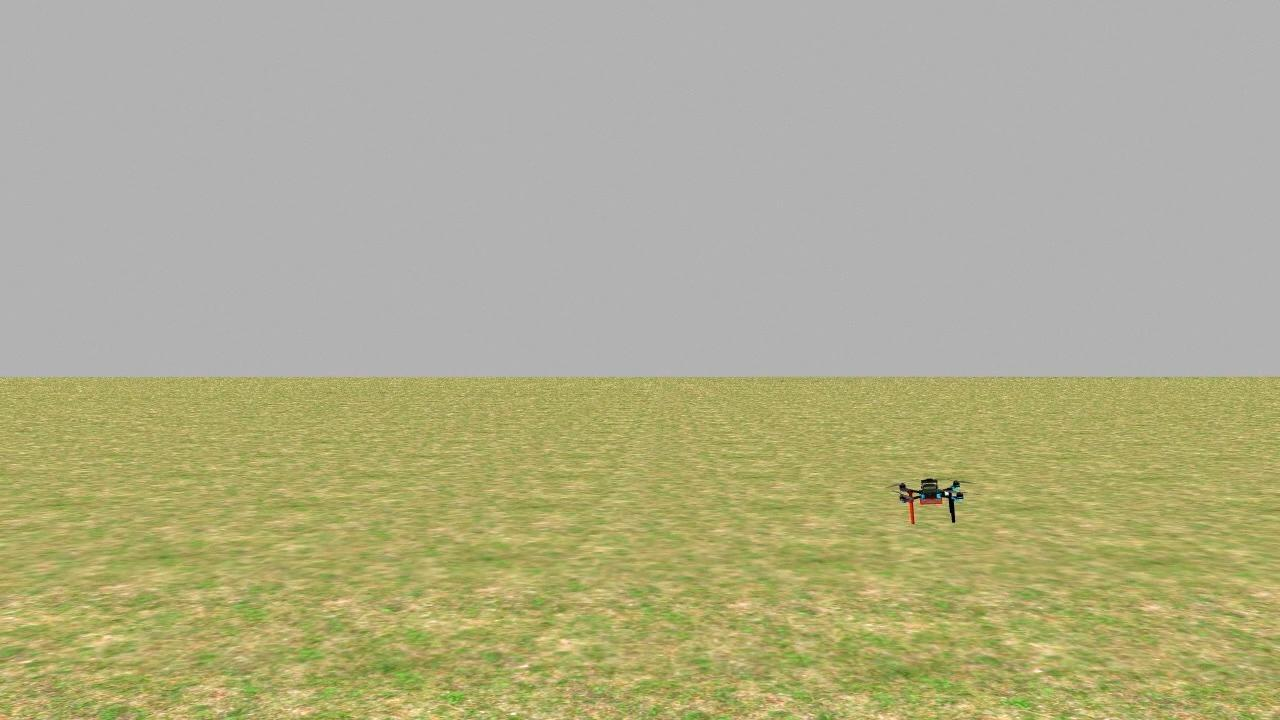UAV: (890, 464, 976, 534)
